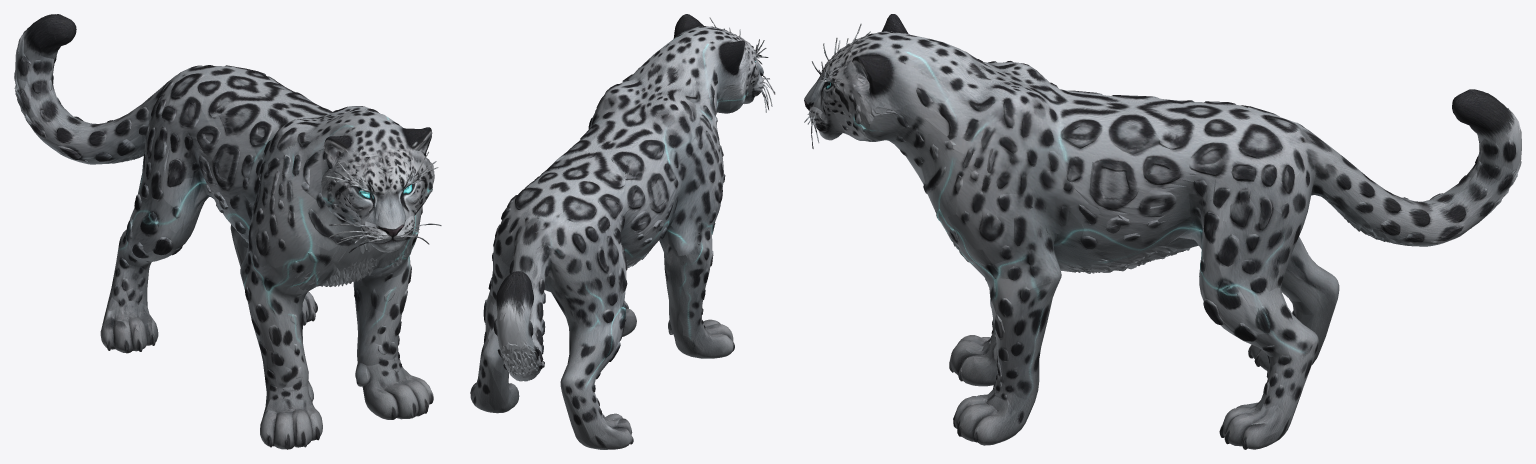
Rendered from frostclaw_a.glb.
3 renders of one model, left to right at view 1: azimuth 30°, elevation 25°; view 2: azimuth 150°, elevation 25°; view 3: azimuth 270°, elevation 25°, orthographic. The views are drawn at different scales.
Visible parts, largest first — view 1: Mesh_0; view 2: Mesh_0; view 3: Mesh_0.
Boxes of the visible parts, x1,y1,x2,y2 form: Mesh_0: [14, 14, 441, 449]; Mesh_0: [470, 14, 775, 449]; Mesh_0: [804, 14, 1521, 449].
Size of the model in its own units: 0.6475 by 1.04 by 1.89.
1 material, 1 textured.
